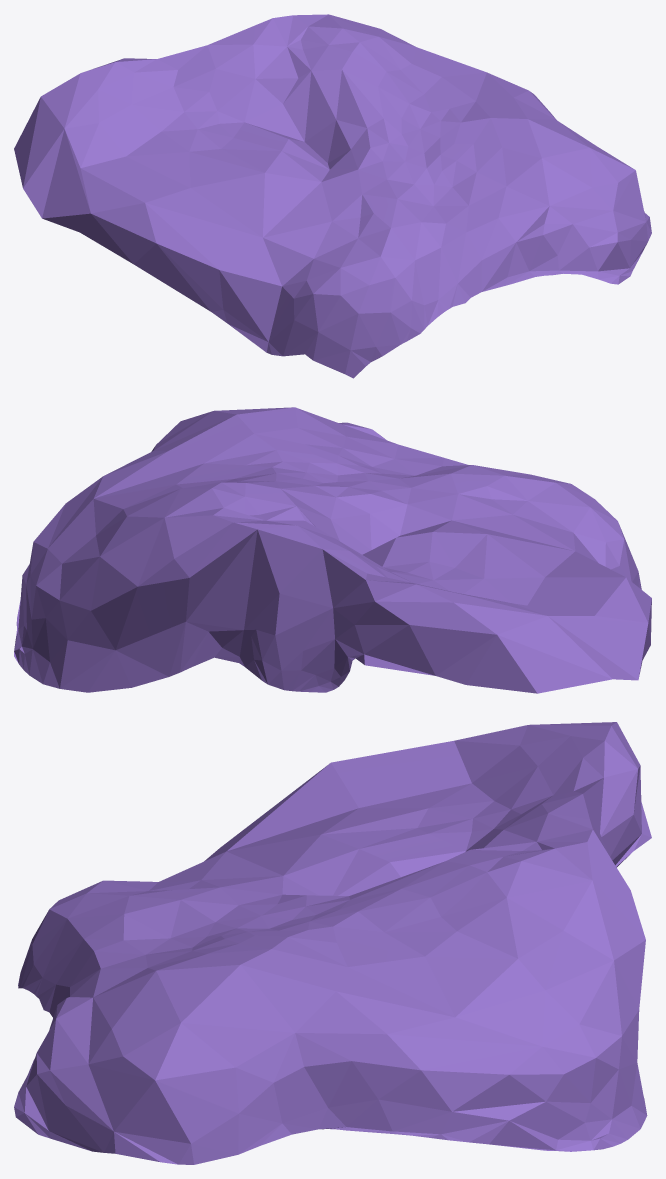
Rendered from ground_013.fbx.
3 renders of one model, top to bottom at view 1: azimuth 30°, elevation 25°; view 2: azimuth 150°, elevation 25°; view 3: azimuth 270°, elevation 25°, orthographic. The views are drawn at different scales.
Visible parts, largest first — view 1: ground.013; view 2: ground.013; view 3: ground.013.
Boxes of the visible parts, x1,y1,x2,y2 form: ground.013: [14, 14, 651, 378]; ground.013: [14, 407, 651, 693]; ground.013: [14, 722, 651, 1164].
Size of the model in its own units: 2305 by 803 by 1858.
Materials: 1 (1 with a texture image).
